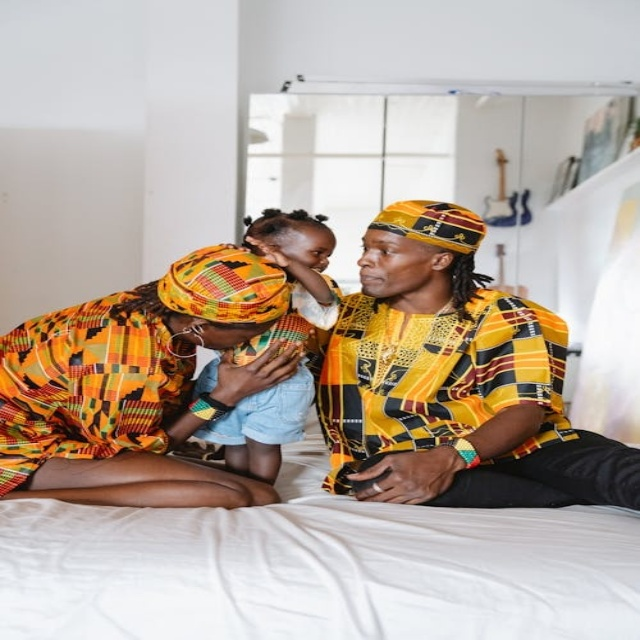Sin_gafas: (360, 237, 413, 260), (292, 240, 335, 258)
Sin_guantes: (347, 446, 463, 504), (211, 338, 306, 401)
Sin_mascara: (357, 267, 394, 296)
